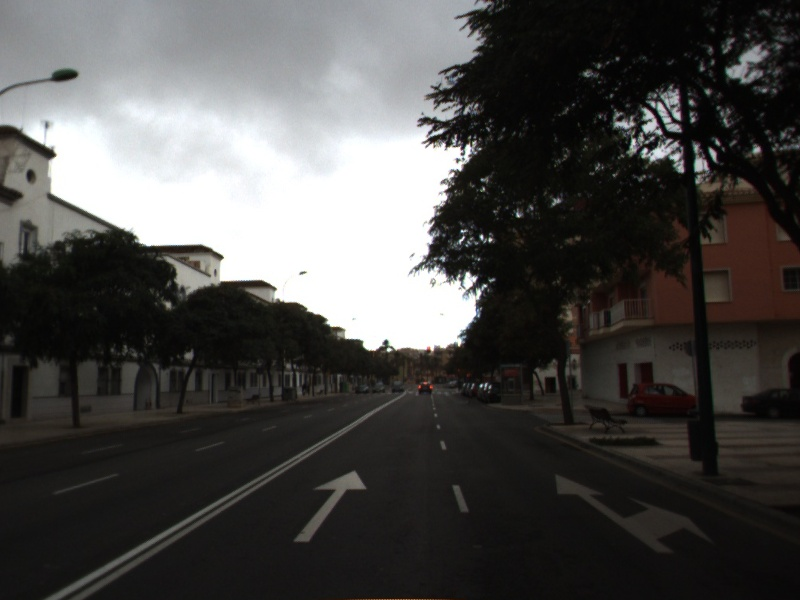STRAIGHT: (291, 467, 369, 544)
STRAIGHT_RIGHT: (554, 472, 716, 555)
